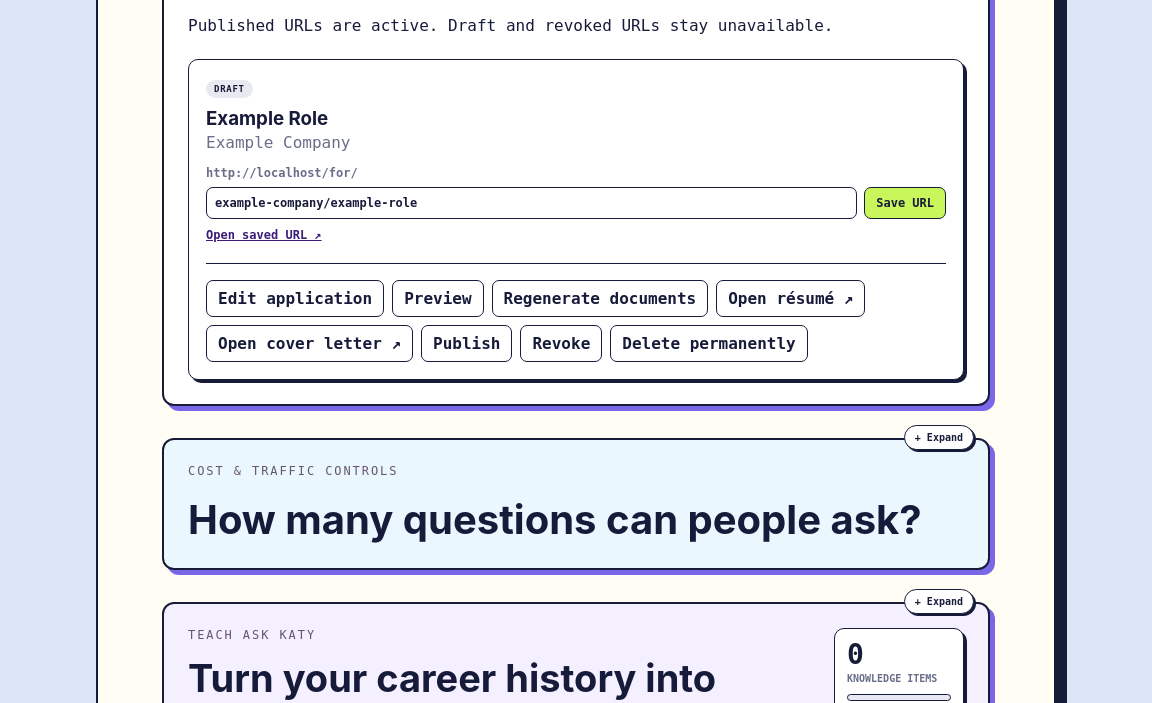
shows an admin server error reference
The width and height of the screenshot is (1152, 703).
(page scrolled)
Click the button "Publish" at (467,344), box [421,325,512,362]
(page scrolled)
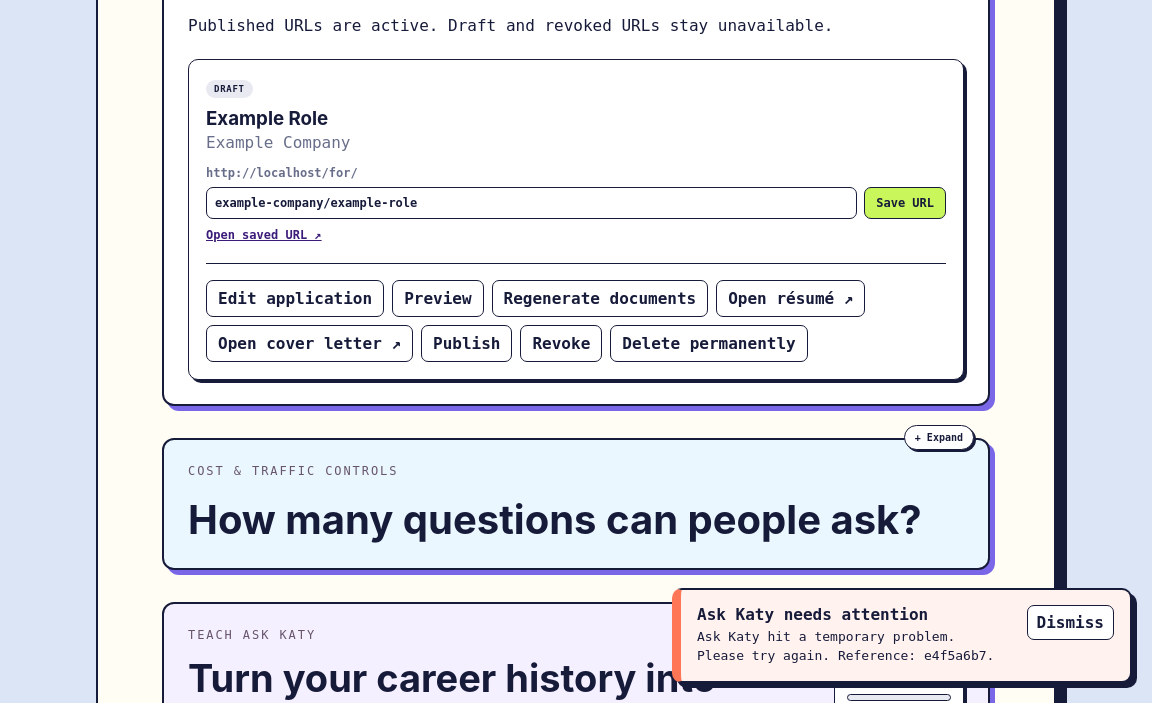
Expected: the message does not show "stack trace", [672,588,1132,683]
Expected: the message shows "Reference: e4f5a6b7", [697,629,994,663]
